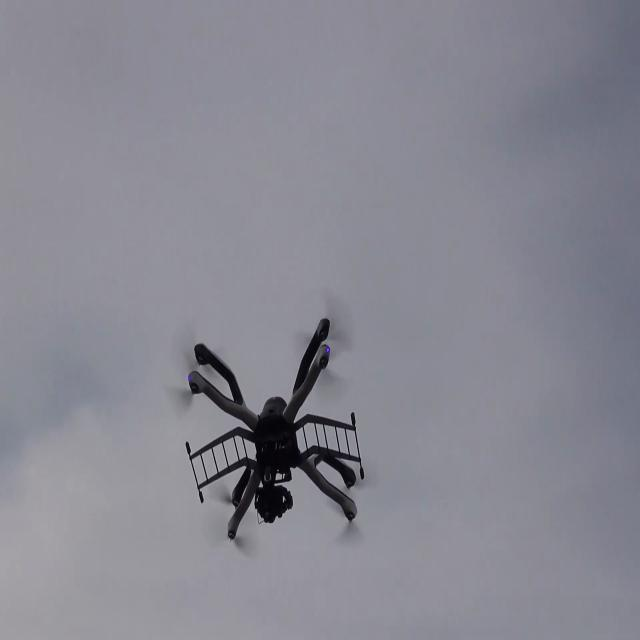drone: (178, 306, 378, 548)
